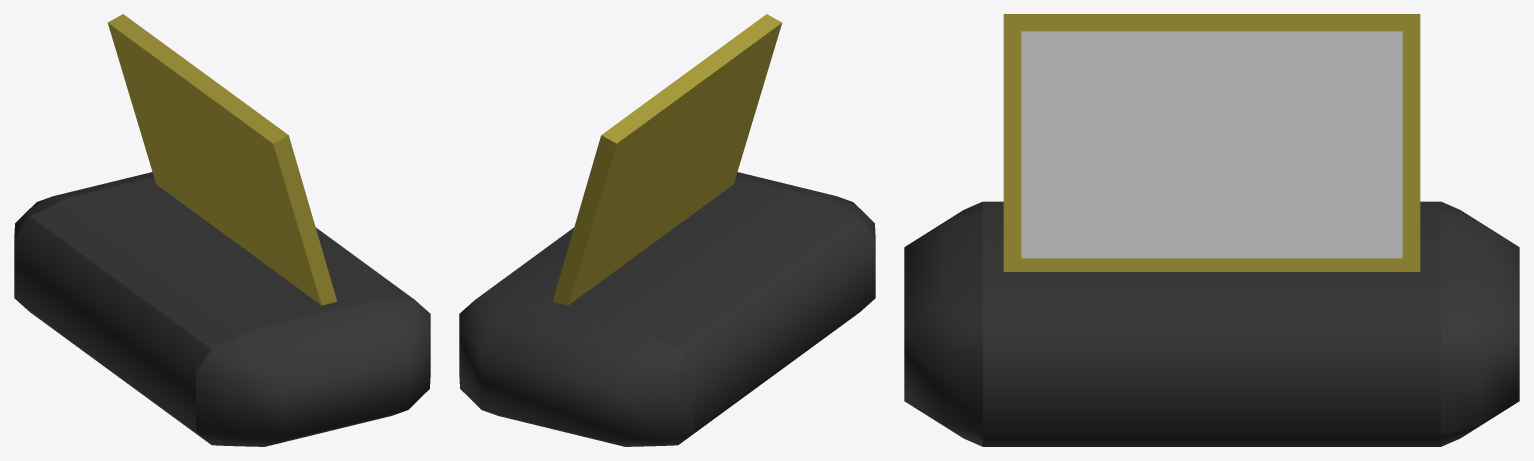
The model's file is table_display.fbx.
3 renders of one model, left to right at view 1: azimuth 30°, elevation 25°; view 2: azimuth 150°, elevation 25°; view 3: azimuth 270°, elevation 25°, orthographic. The views are drawn at different scales.
Parts seen in each view (by area): view 1: Cube; view 2: Cube; view 3: Cube.
Part boxes in pixels (x1,y1,x2,y2): Cube: [14, 14, 430, 446]; Cube: [459, 14, 875, 446]; Cube: [904, 14, 1519, 446].
Size of the model in its own units: 5.85 by 6.93 by 10.55.
